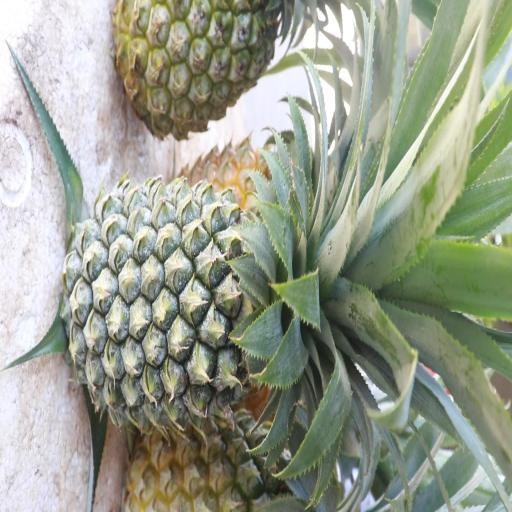------------------------------: (114, 0, 282, 141)
